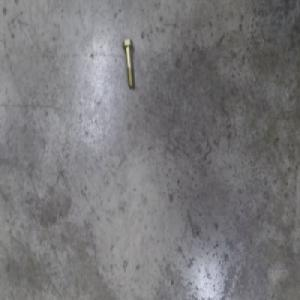Bolt: (122, 38, 135, 87)
